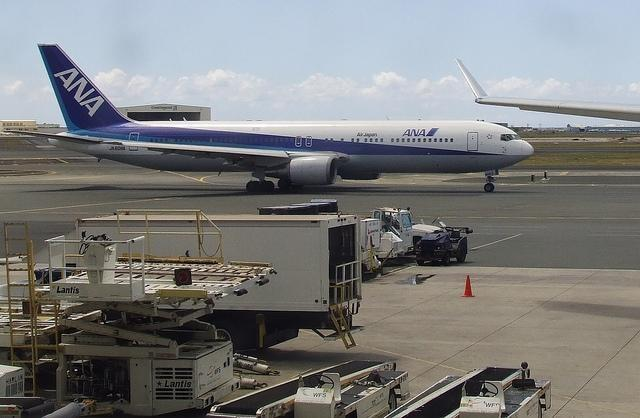truck: (80, 206, 377, 348), (236, 214, 386, 278), (458, 370, 552, 418), (370, 206, 413, 258), (402, 222, 439, 256)
